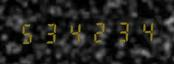five: (17, 21, 39, 44)
four: (64, 20, 86, 44), (133, 19, 155, 42)
three: (40, 20, 62, 44), (110, 19, 132, 43)
two: (87, 20, 109, 43)
